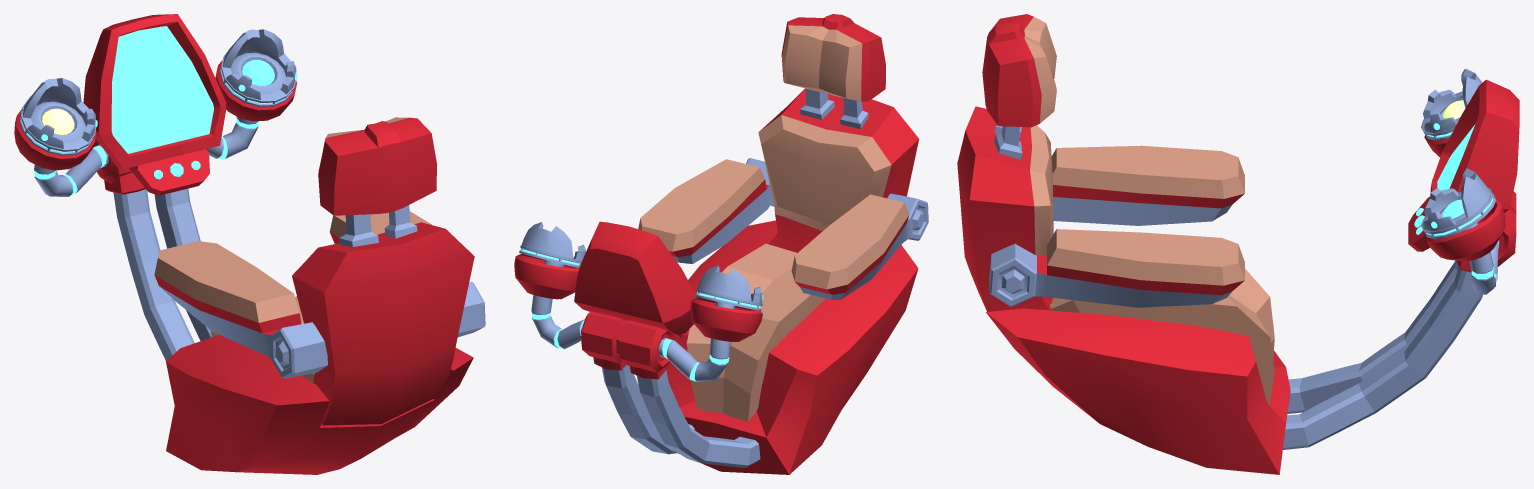
The model's file is bubble_ship_cockpit_models_2.fbx.
The picture shows the model from 3 angles, left to right: view 1: azimuth 30°, elevation 25°; view 2: azimuth 150°, elevation 25°; view 3: azimuth 270°, elevation 25°; orthographic projection. The views are drawn at different scales.
Visible parts, largest first — view 1: back rest.001, seat base.001, Cube.009, arm rests.001, head rest.001, console with edits, console with edits.003, console with edits.001, cable shape.002, neck rest.001; view 2: seat base.001, arm rests.001, back rest.001, Cube.009, seat.001, head rest.001, console with edits, console with edits.003, console with edits.001, cable shape.002, neck rest.001; view 3: seat base.001, arm rests.001, back rest.001, console with edits, Cube.009, head rest.001, seat.001, console with edits.001, console with edits.003, cable shape.002, neck rest.001.
Boxes of the visible parts, x1=… form: back rest.001: x1=292, y1=222, x2=474, y2=425; seat base.001: x1=166, y1=334, x2=473, y2=474; Cube.009: x1=83, y1=14, x2=225, y2=195; arm rests.001: x1=154, y1=211, x2=485, y2=378; head rest.001: x1=318, y1=117, x2=436, y2=215; console with edits: x1=113, y1=188, x2=211, y2=360; console with edits.003: x1=14, y1=78, x2=97, y2=170; console with edits.001: x1=215, y1=29, x2=297, y2=121; cable shape.002: x1=34, y1=117, x2=258, y2=196; neck rest.001: x1=339, y1=205, x2=417, y2=246; seat base.001: x1=666, y1=220, x2=918, y2=474; arm rests.001: x1=638, y1=158, x2=928, y2=299; back rest.001: x1=758, y1=88, x2=918, y2=252; Cube.009: x1=574, y1=221, x2=696, y2=379; seat.001: x1=686, y1=243, x2=825, y2=421; head rest.001: x1=781, y1=14, x2=885, y2=101; console with edits: x1=602, y1=365, x2=760, y2=467; console with edits.003: x1=690, y1=265, x2=763, y2=341; console with edits.001: x1=514, y1=222, x2=585, y2=299; cable shape.002: x1=531, y1=260, x2=735, y2=382; neck rest.001: x1=800, y1=88, x2=868, y2=128; seat base.001: x1=986, y1=308, x2=1290, y2=474; arm rests.001: x1=989, y1=145, x2=1244, y2=307; back rest.001: x1=957, y1=106, x2=1053, y2=311; console with edits: x1=1283, y1=260, x2=1483, y2=449; Cube.009: x1=1408, y1=79, x2=1519, y2=272; head rest.001: x1=982, y1=14, x2=1056, y2=127; seat.001: x1=1050, y1=269, x2=1274, y2=404; console with edits.001: x1=1421, y1=168, x2=1505, y2=261; console with edits.003: x1=1421, y1=69, x2=1482, y2=157; cable shape.002: x1=1462, y1=222, x2=1499, y2=294; neck rest.001: x1=994, y1=124, x2=1022, y2=159.
Bounding box in the file's own units: 489 × 728 × 868.
